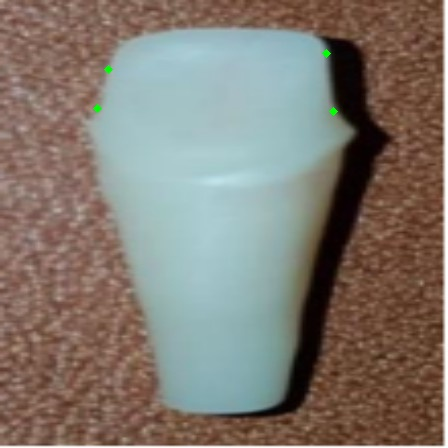coin_1: (333, 111, 353, 131)
coin_2: (326, 53, 346, 73)
coin_3: (97, 108, 117, 128)
coin_4: (108, 69, 128, 89)
